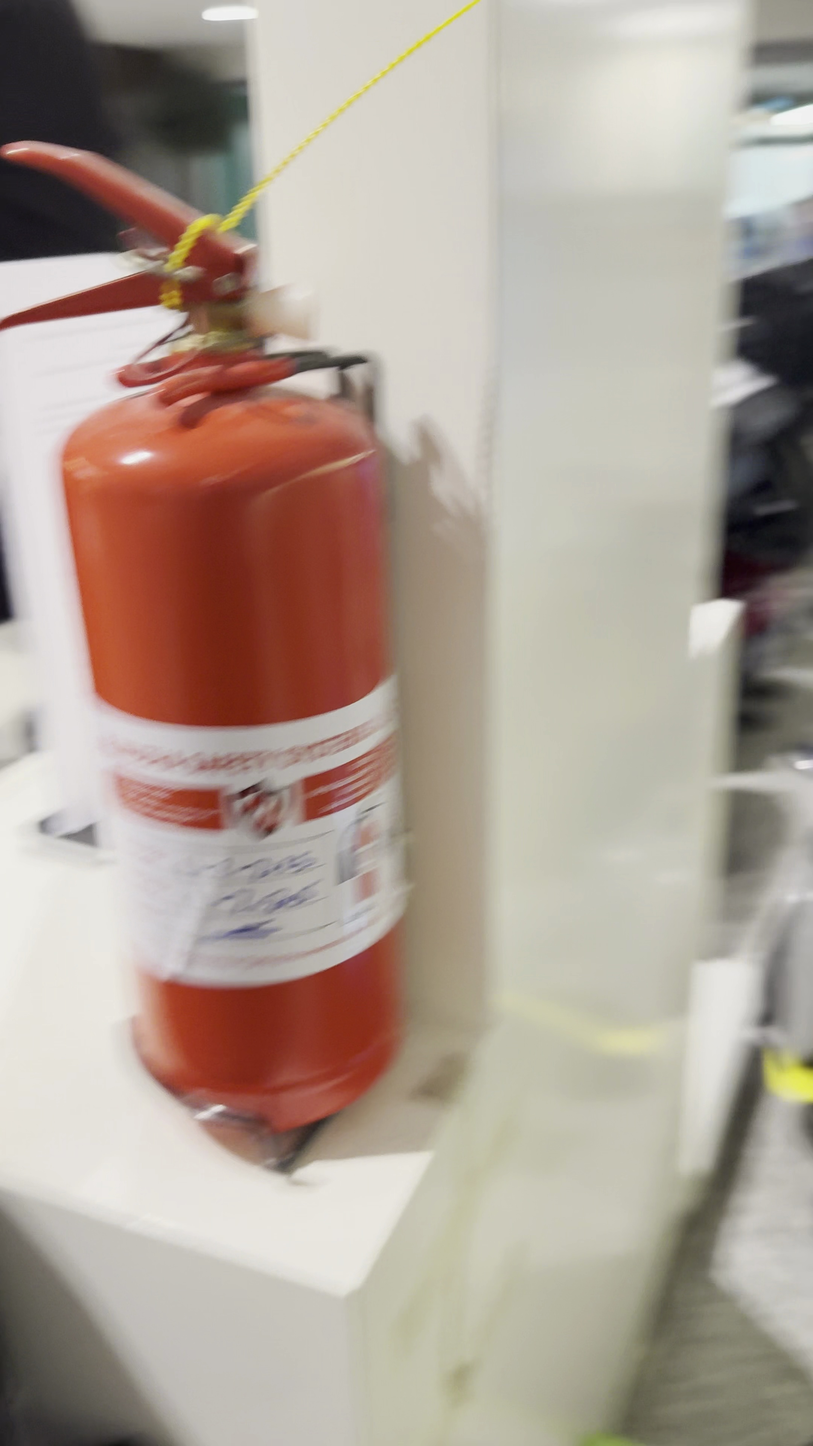fire_extinguisher: (1, 138, 414, 1173)
